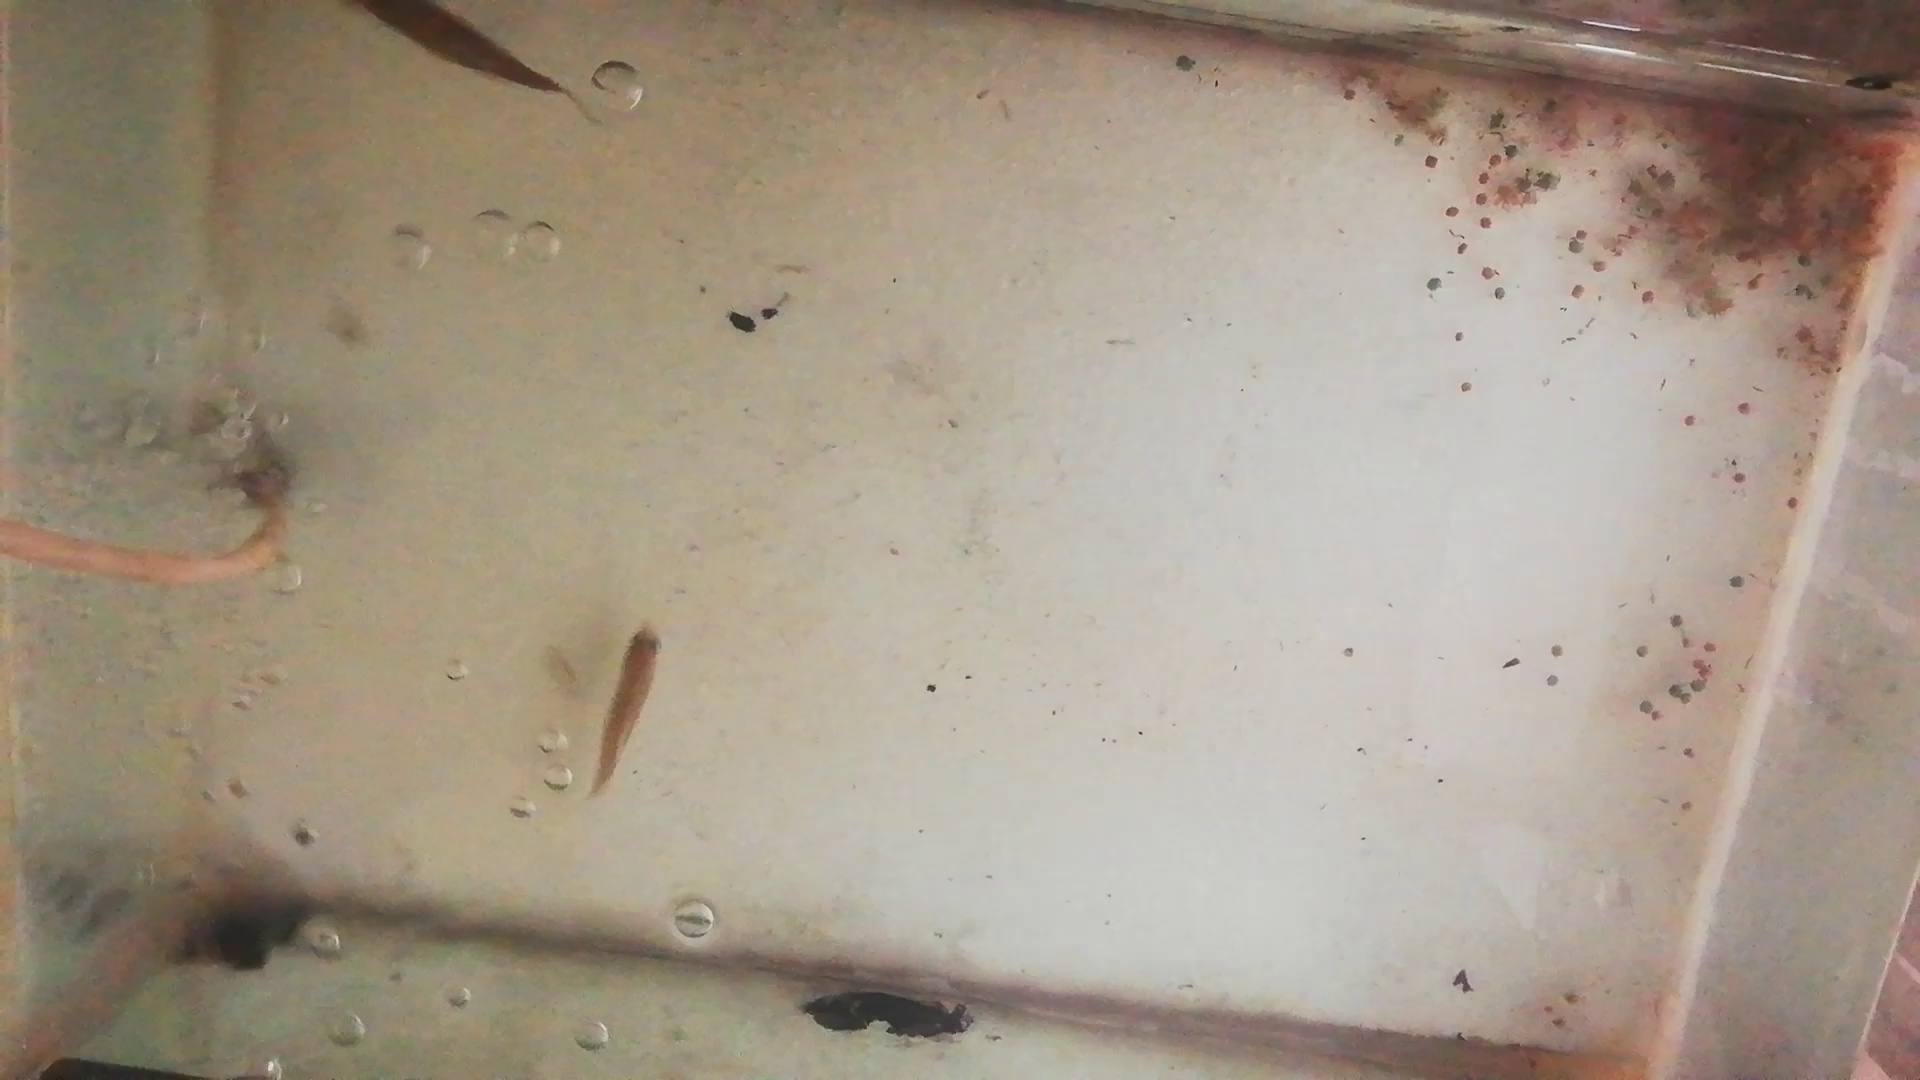fish: (365, 1, 560, 96), (588, 618, 663, 799)
